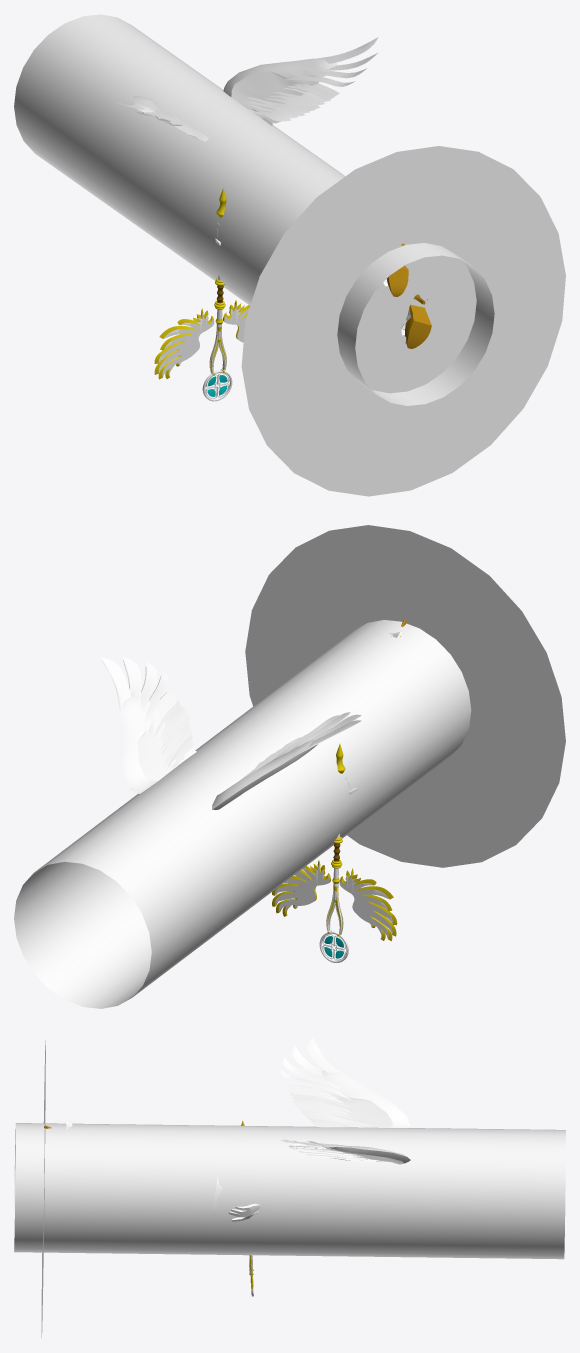
Rendered from angel.FBX.
The picture shows the model from 3 angles, top to bottom: view 1: azimuth 30°, elevation 25°; view 2: azimuth 150°, elevation 25°; view 3: azimuth 270°, elevation 25°; orthographic projection. The views are drawn at different scales.
Parts seen in each view (by area): view 1: Layer0_001; view 2: Layer0_001; view 3: Layer0_001.
Part boxes in pixels (x1,y1,x2,y2): Layer0_001: (14,14,565,496); Layer0_001: (14,525,565,1008); Layer0_001: (14,1038,565,1337).
Bounding box in the file's own units: 41.71 × 41.7 × 76.23.
